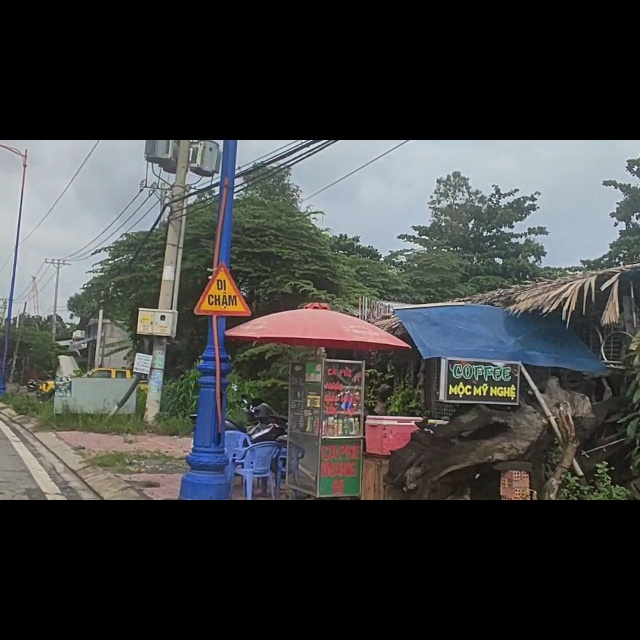bien_nguy_hiem: (193, 217, 253, 320)
